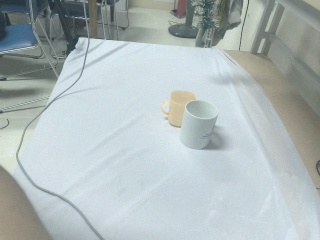cup: (179, 99, 224, 150), (160, 90, 197, 128)
